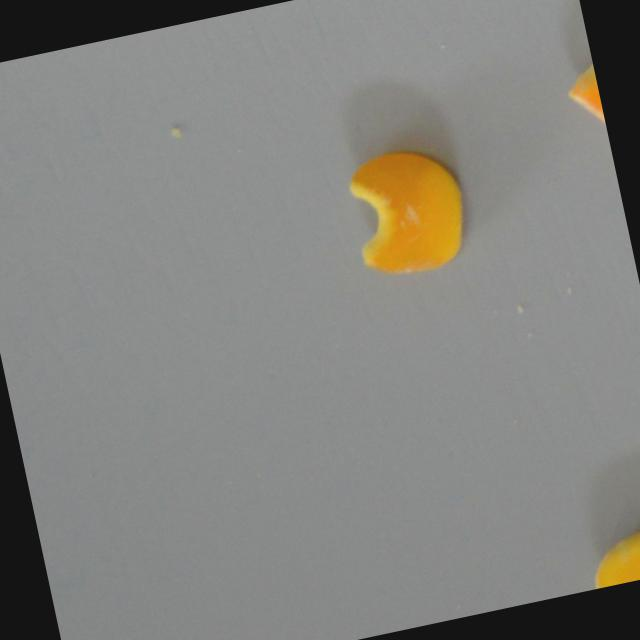no_canjicado: (341, 139, 476, 281)
pelicula: (553, 28, 608, 143)
